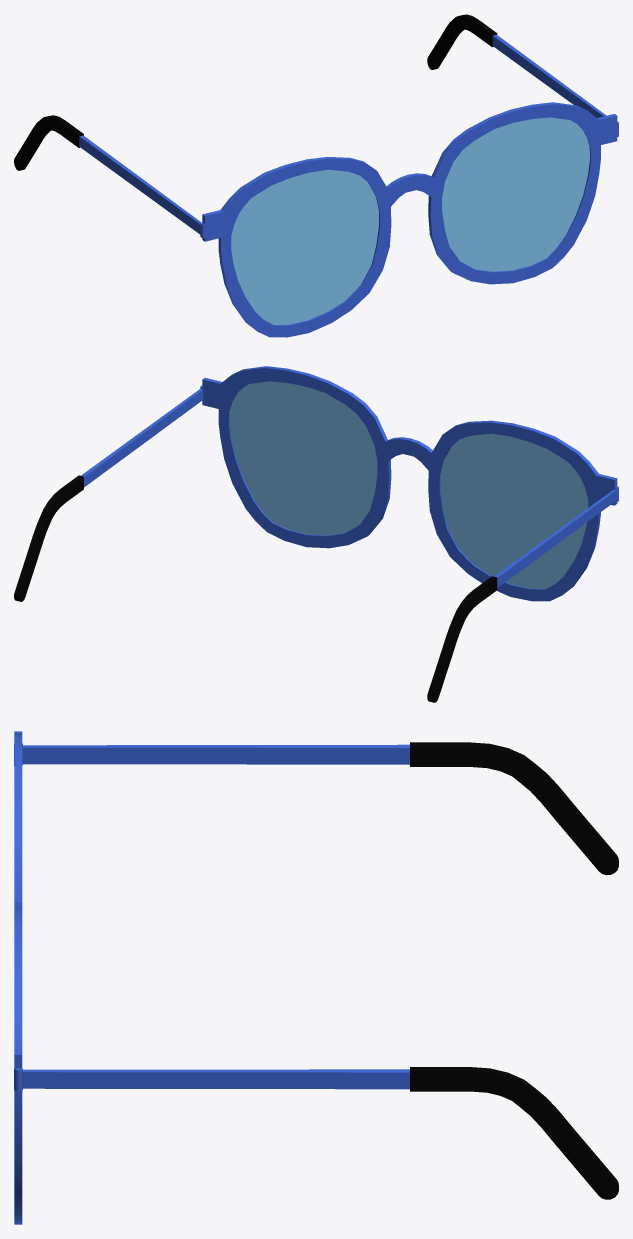
Rendered from glasses-11.glb.
The picture shows the model from 3 angles, top to bottom: view 1: azimuth 30°, elevation 25°; view 2: azimuth 150°, elevation 25°; view 3: azimuth 270°, elevation 25°; orthographic projection. The views are drawn at different scales.
Visible parts, largest first — view 1: glasses5.003; view 2: glasses5.003; view 3: glasses5.003.
Part boxes in pixels (x1=…): glasses5.003: x1=14, y1=14, x2=618, y2=337; glasses5.003: x1=14, y1=366, x2=618, y2=702; glasses5.003: x1=14, y1=731, x2=618, y2=1224.
Size of the model in its own units: 2.08 by 0.8173 by 1.62.
